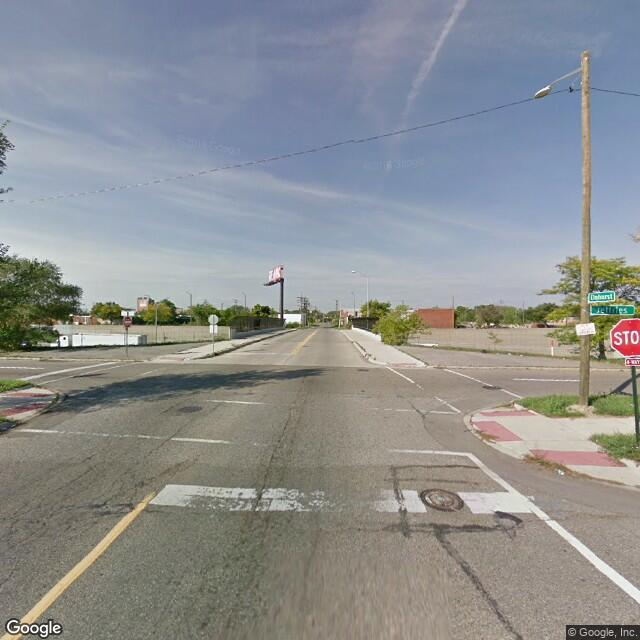litter: (556, 466, 567, 479)
